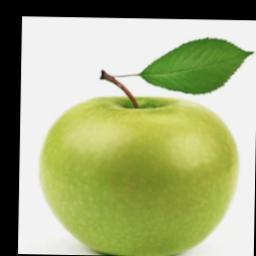Apple Ripe: (3, 28, 256, 256)
